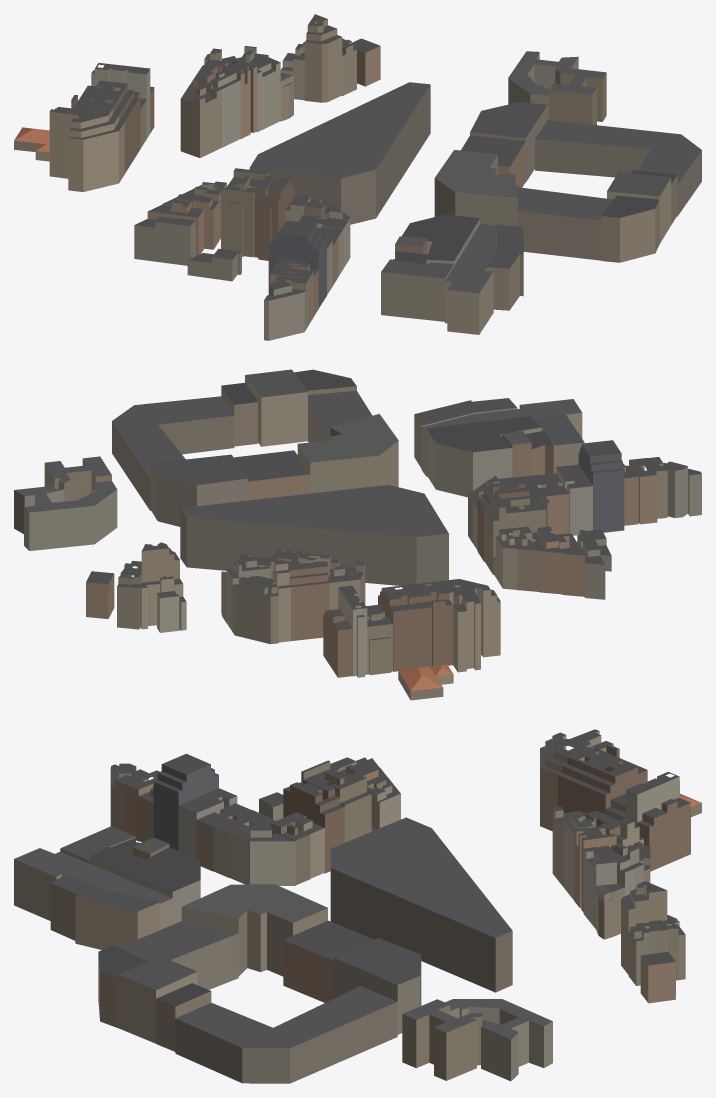
File: 1_5.far.glb
The picture shows the model from 3 angles, top to bottom: view 1: azimuth 30°, elevation 25°; view 2: azimuth 150°, elevation 25°; view 3: azimuth 270°, elevation 25°; orthographic projection. The views are drawn at different scales.
Visible parts, largest first — view 1: 1_5_far; view 2: 1_5_far; view 3: 1_5_far.
Part boxes in pixels (x1,y1,x2,y2): 1_5_far: [14, 14, 701, 340]; 1_5_far: [14, 369, 701, 700]; 1_5_far: [14, 729, 701, 1083].
Size of the model in its own units: 286 by 43.23 by 297.
